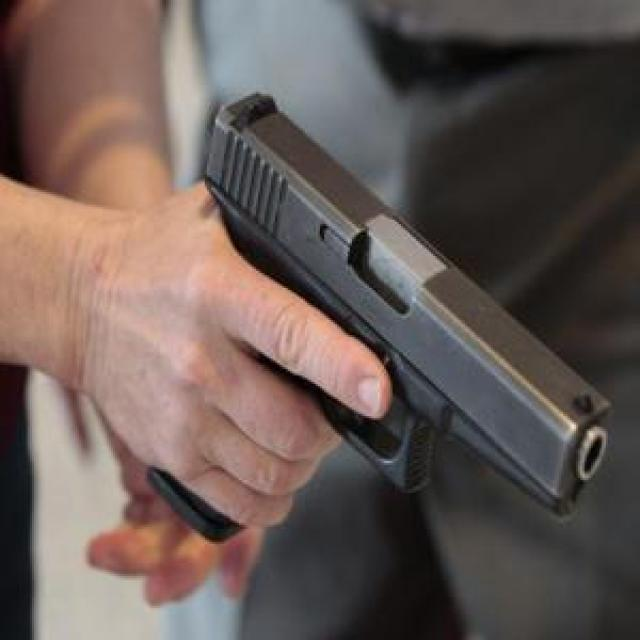pistol: (137, 88, 616, 546)
